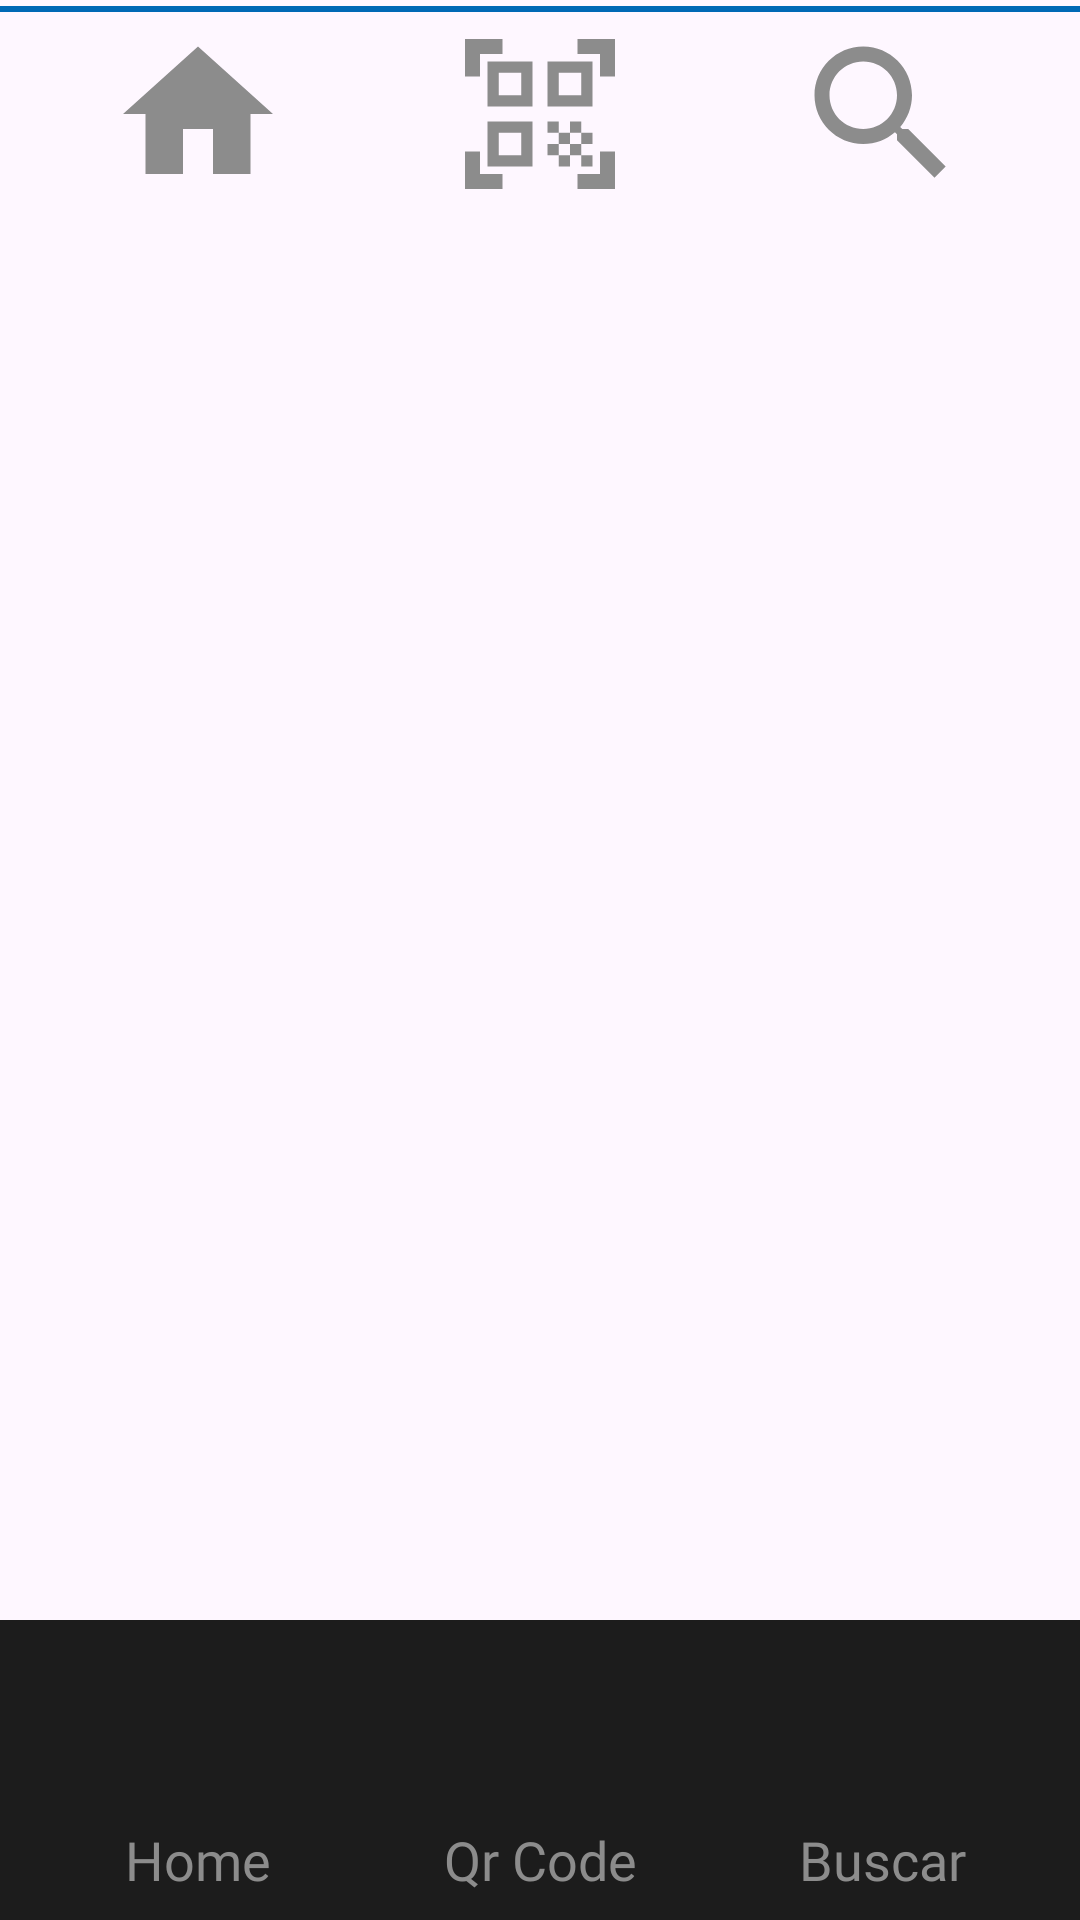

Where to tap for icons on this 1080x1920 app screen, as (x=x, y=y):
bnv home: (x=198, y=110)
bnv qrcode: (x=540, y=114)
bnv search: (x=880, y=112)
